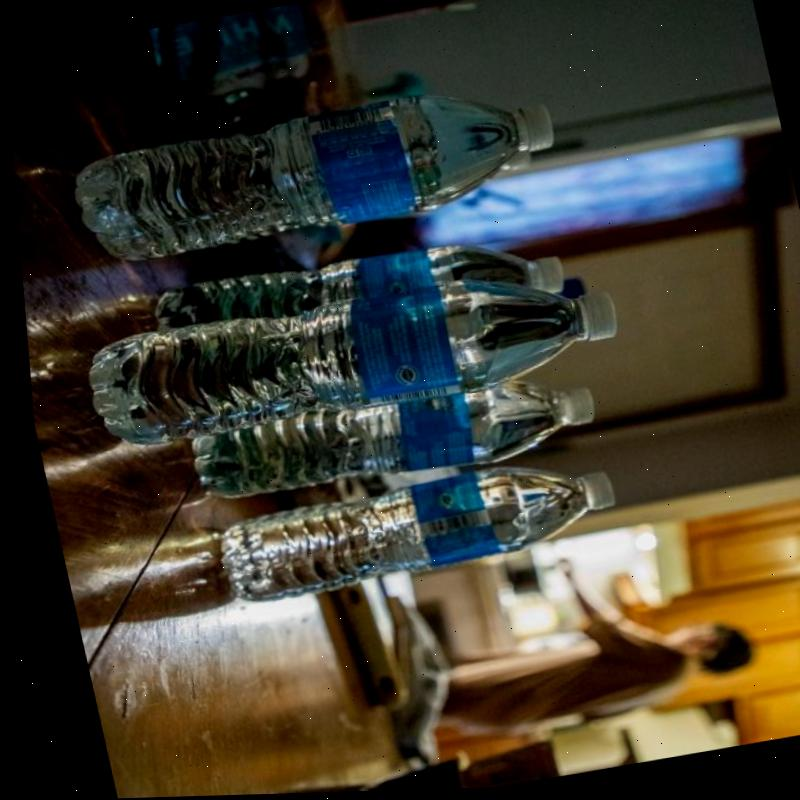botella: (64, 253, 626, 455), (63, 75, 568, 273), (196, 453, 617, 611), (177, 369, 599, 514), (139, 222, 565, 361)
